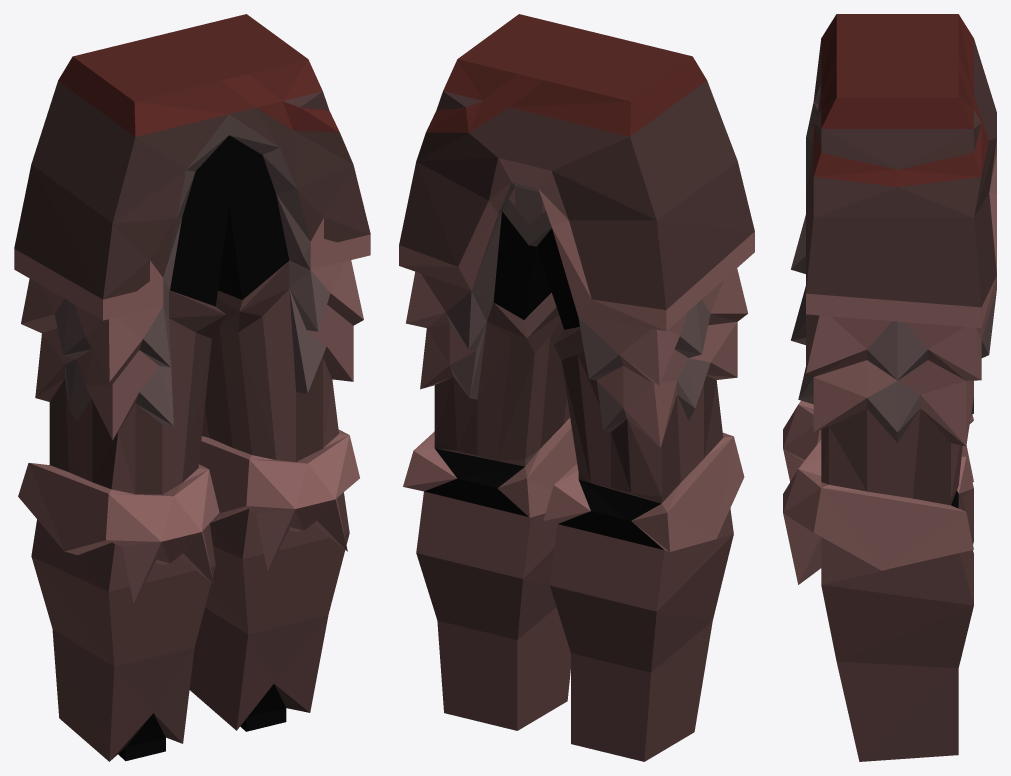
Rendered from player_oathplate_legs.glb.
The picture shows the model from 3 angles, left to right: view 1: azimuth 30°, elevation 25°; view 2: azimuth 150°, elevation 25°; view 3: azimuth 270°, elevation 25°; orthographic projection.
Size of the model in its own units: 39.99 by 96 by 28.
1 material, 1 textured.
